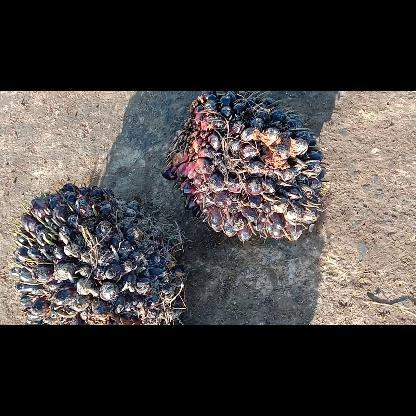TBS mentah: (156, 90, 330, 248), (7, 180, 187, 324)
